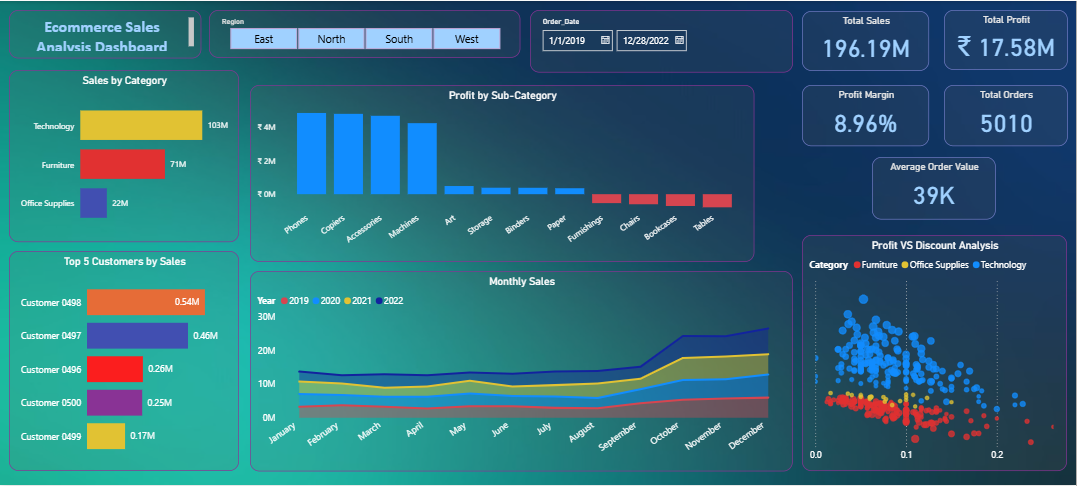

What the dashboard file says about the page in this screenshot:
{"tool":"powerbi","page":{"name":"Page 1","canvas":[1600,720],"ordinal":0},"visuals":[{"type":"clusteredBarChart","title":"Sales by Category","fields":{"Category":["Ecommerce Sales Dataset.Product Category"],"Y":["Sum(Ecommerce Sales Dataset.Sales)"]},"box":[13.8,103.2,342.4,256.3],"z":0},{"type":"textbox","box":[13.8,13.8,285.6,72.3],"z":1000},{"type":"stackedAreaChart","title":"Monthly Sales","fields":{"Category":["Ecommerce Sales Dataset.Order_Date.Variation.Date Hierarchy.Month"],"Y":["Sum(Ecommerce Sales Dataset.Sales)"],"Series":["Ecommerce Sales Dataset.Order_Date.Variation.Date Hierarchy.Year"]},"box":[371.6,400.9,806.9,297.6],"z":2000},{"type":"columnChart","title":"Profit by Sub-Category","fields":{"Category":["Ecommerce Sales Dataset.Sub_Category"],"Y":["Sum(Ecommerce Sales Dataset.Profit)"]},"box":[371.6,125.6,750.1,263.2],"z":3000},{"type":"scatterChart","title":"Profit VS Discount Analysis","fields":{"Size":["Sum(Ecommerce Sales Dataset.Sales)"],"Category":["Ecommerce Sales Dataset.Product_Name"],"Y":["Sum(Ecommerce Sales Dataset.Profit)"],"X":["Avg(Ecommerce Sales Dataset.Discount)"],"Series":["Ecommerce Sales Dataset.Category"]},"box":[1192.3,347.5,394,351],"z":4000},{"type":"barChart","title":"Top 5 Customers by Sales","fields":{"Category":["Ecommerce Sales Dataset.Customer_Name"],"Y":["Sum(Ecommerce Sales Dataset.Sales)"]},"box":[13.8,371.6,342.4,326.9],"z":5000},{"type":"card","title":"Total Sales","fields":{"Values":["Sum(Ecommerce Sales Dataset.Sales)"]},"box":[1192.3,15.5,189.2,89.5],"z":6000},{"type":"card","title":"Total Profit","fields":{"Values":["Sum(Ecommerce Sales Dataset.Profit)"]},"box":[1403.9,13.8,184.1,89.5],"z":7000},{"type":"card","title":"Total Orders","fields":{"Values":["Ecommerce Sales Dataset.Total Orders"]},"box":[1403.9,125.6,184.1,91.2],"z":8000},{"type":"card","title":"Profit Margin","fields":{"Values":["Ecommerce Sales Dataset.Profit Margin"]},"box":[1192.3,125.6,189.2,91.2],"z":9000},{"type":"slicer","fields":{"Values":["Ecommerce Sales Dataset.Region"]},"box":[311.4,13.8,462.8,70.5],"z":10000},{"type":"slicer","fields":{"Values":["Ecommerce Sales Dataset.Order_Date"]},"box":[788,13.8,390.5,92.9],"z":11000},{"type":"card","title":"Average Order Value","fields":{"Values":["Ecommerce Sales Dataset.Avg Order Value"]},"box":[1297.2,232.3,184.1,92.9],"z":12000}]}

Visuals, with their boxes in screenshot pixels (x1, y1, x2, y2), scaled from the page's 1600x720 canvas onto the 1077x486 screenshot:
"Sales by Category" clusteredBarChart: (x1=9, y1=70, x2=240, y2=243)
textbox: (x1=9, y1=9, x2=202, y2=58)
"Monthly Sales" stackedAreaChart: (x1=250, y1=271, x2=793, y2=471)
"Profit by Sub-Category" columnChart: (x1=250, y1=85, x2=755, y2=262)
"Profit VS Discount Analysis" scatterChart: (x1=803, y1=235, x2=1068, y2=471)
"Top 5 Customers by Sales" barChart: (x1=9, y1=251, x2=240, y2=471)
"Total Sales" card: (x1=803, y1=10, x2=930, y2=71)
"Total Profit" card: (x1=945, y1=9, x2=1069, y2=70)
"Total Orders" card: (x1=945, y1=85, x2=1069, y2=146)
"Profit Margin" card: (x1=803, y1=85, x2=930, y2=146)
slicer - Ecommerce Sales Dataset.Region: (x1=210, y1=9, x2=521, y2=57)
slicer - Ecommerce Sales Dataset.Order_Date: (x1=530, y1=9, x2=793, y2=72)
"Average Order Value" card: (x1=873, y1=157, x2=997, y2=220)
